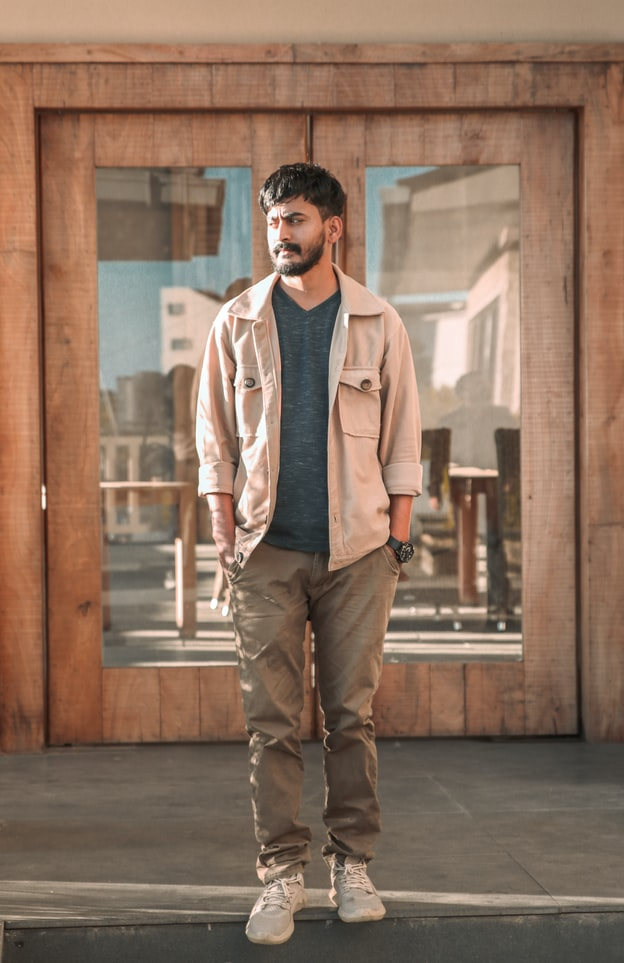beard: (263, 233, 332, 279)
